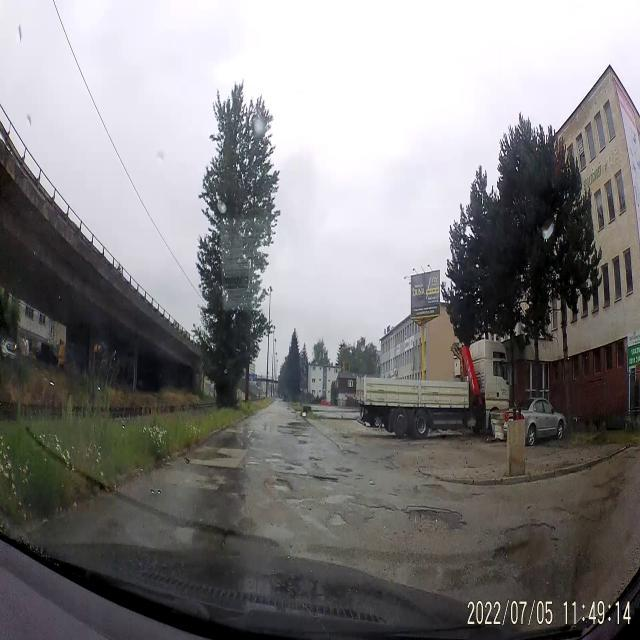Pothole: (490, 513, 560, 579), (403, 503, 466, 532), (352, 500, 396, 518), (266, 472, 294, 498), (418, 478, 450, 500), (323, 512, 348, 532), (304, 474, 342, 486), (307, 452, 323, 464), (336, 466, 353, 476), (298, 438, 308, 448)
